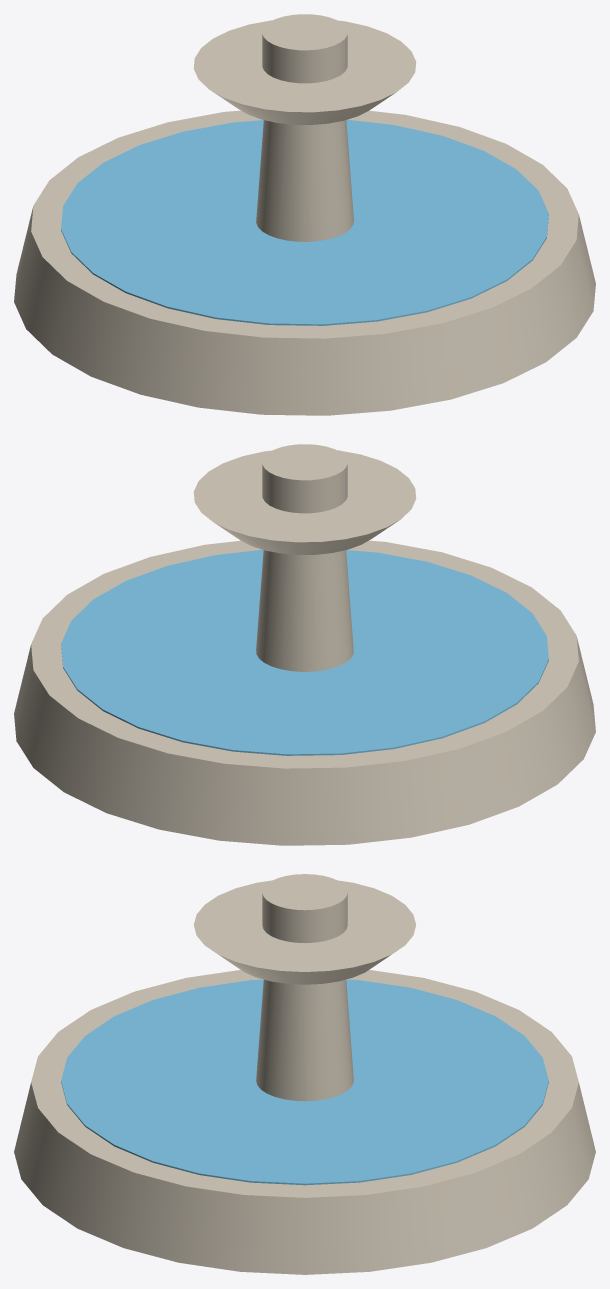
The model's file is fontaine.glb.
The picture shows the model from 3 angles, top to bottom: view 1: azimuth 30°, elevation 25°; view 2: azimuth 150°, elevation 25°; view 3: azimuth 270°, elevation 25°; orthographic projection.
Size of the model in its own units: 6.8 by 3.35 by 6.8.
